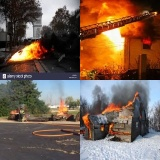fire: (100, 91, 141, 114), (9, 39, 47, 61), (100, 25, 127, 51), (108, 123, 131, 136), (81, 112, 92, 138), (55, 99, 69, 115), (100, 124, 104, 132)
